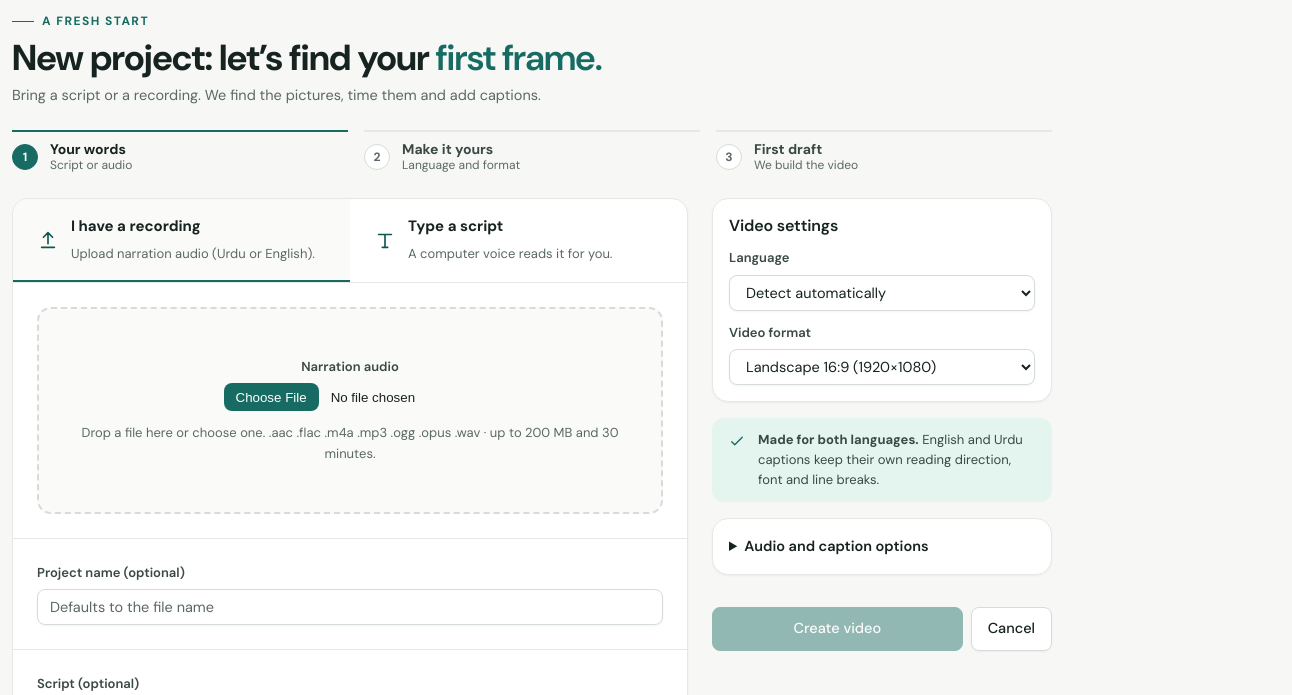
Scenario: NewProjectPage › a paid voice needs the user's confirmation first
Click the radio button with aria-label "Speak my script with a computer voice" at [456, 226], box 374,216 -> 612,262
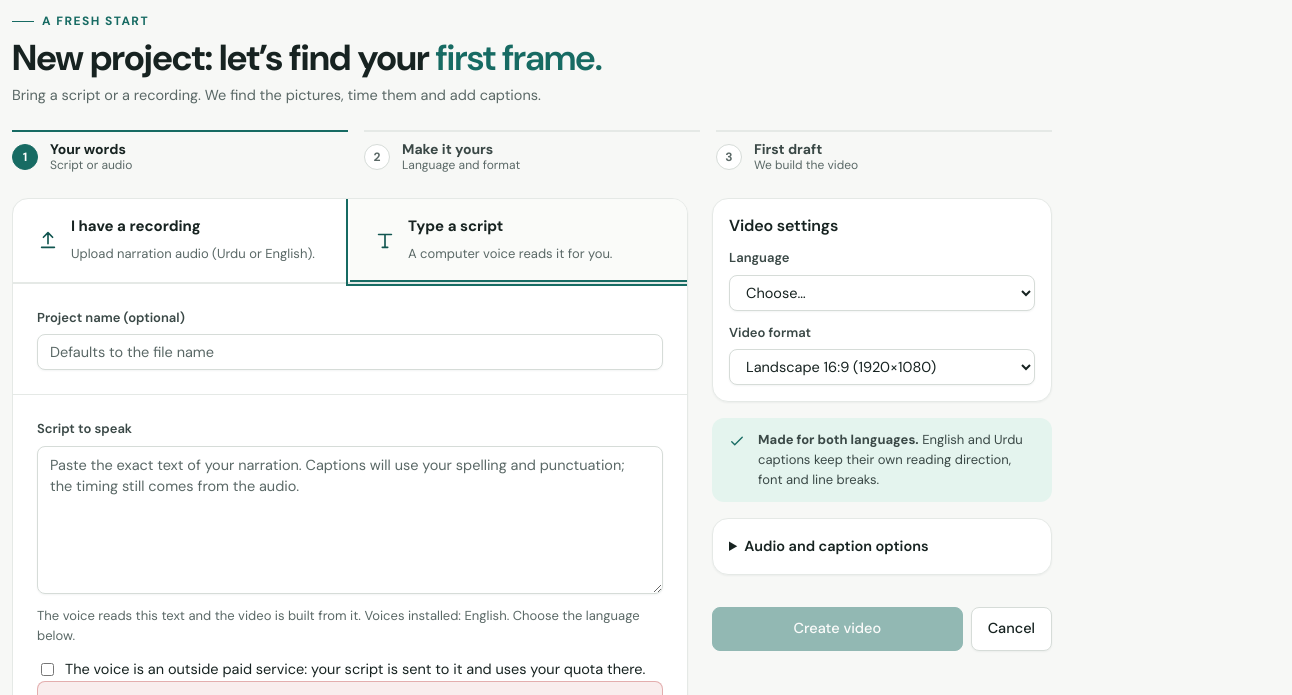
Type "Hello." into the text box labelled "Script to speak" at [350, 520], box 37,446 -> 663,594
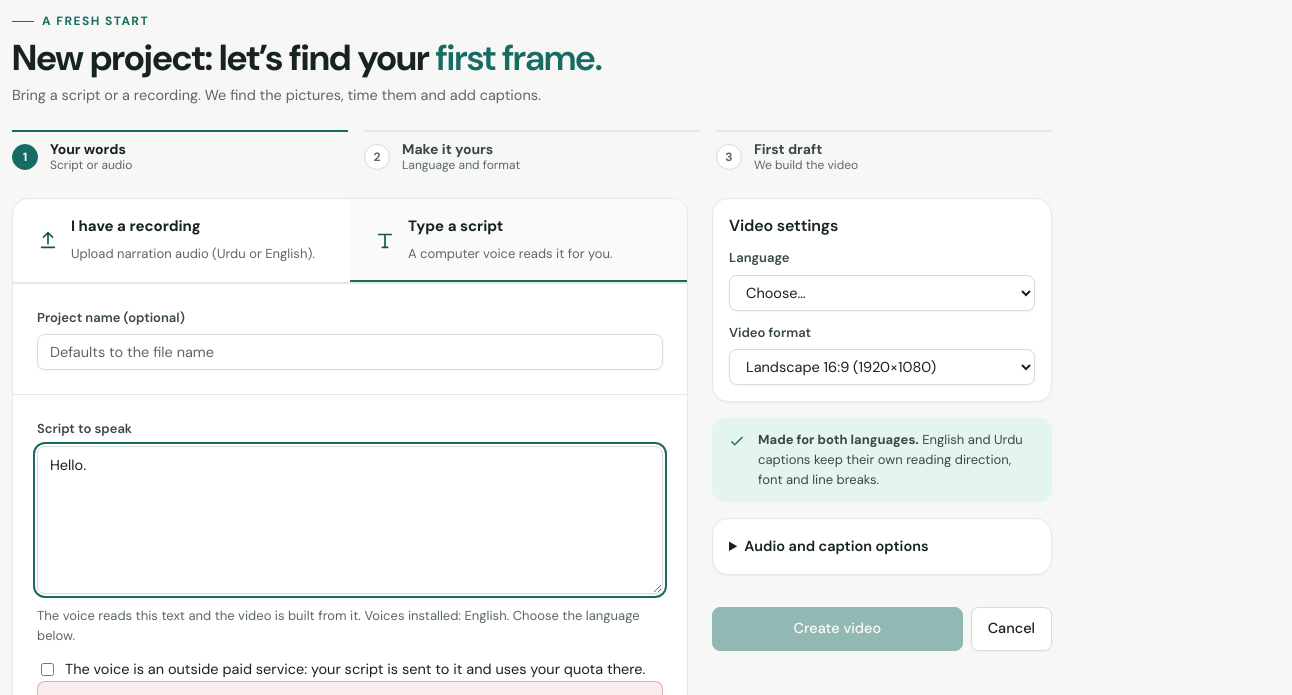
Select "English" in the dropdown labelled "Language" at [882, 293], box 729,275 -> 1035,311
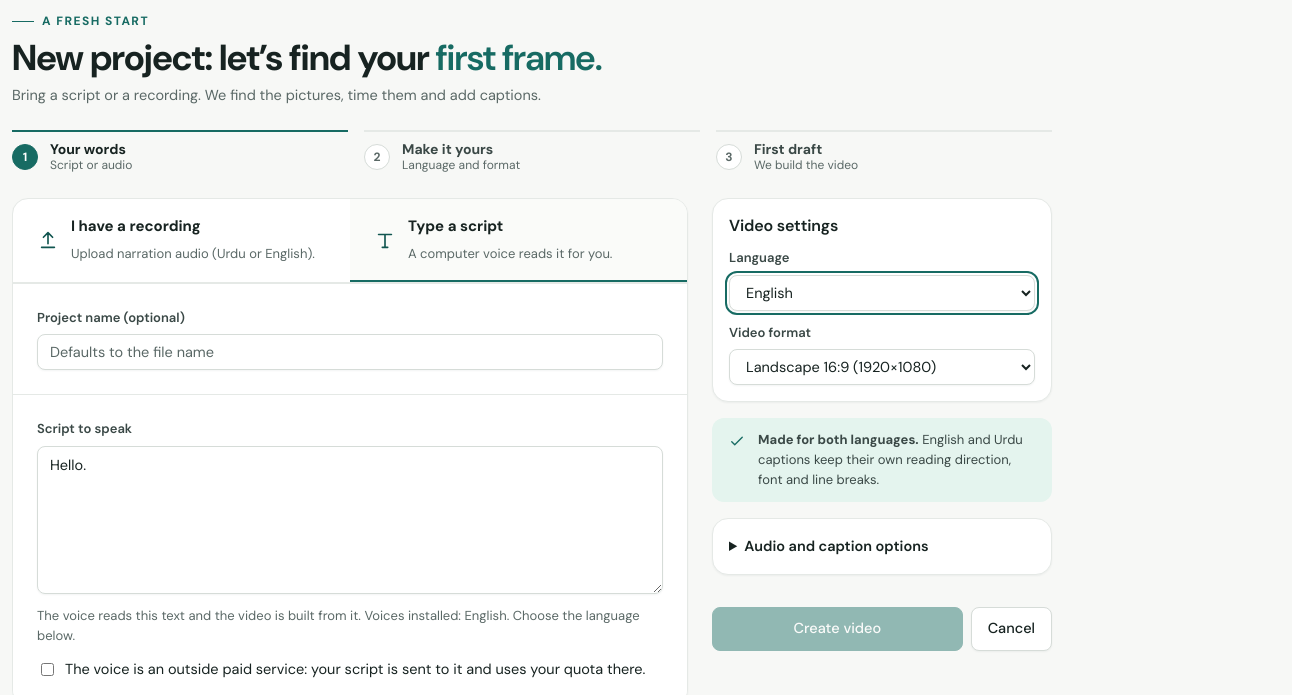
expect the button "Create video" is disabled: met, box 712,607 -> 963,651
Click the checkbox labelled "outside paid service" at [48, 670], box 41,663 -> 54,676
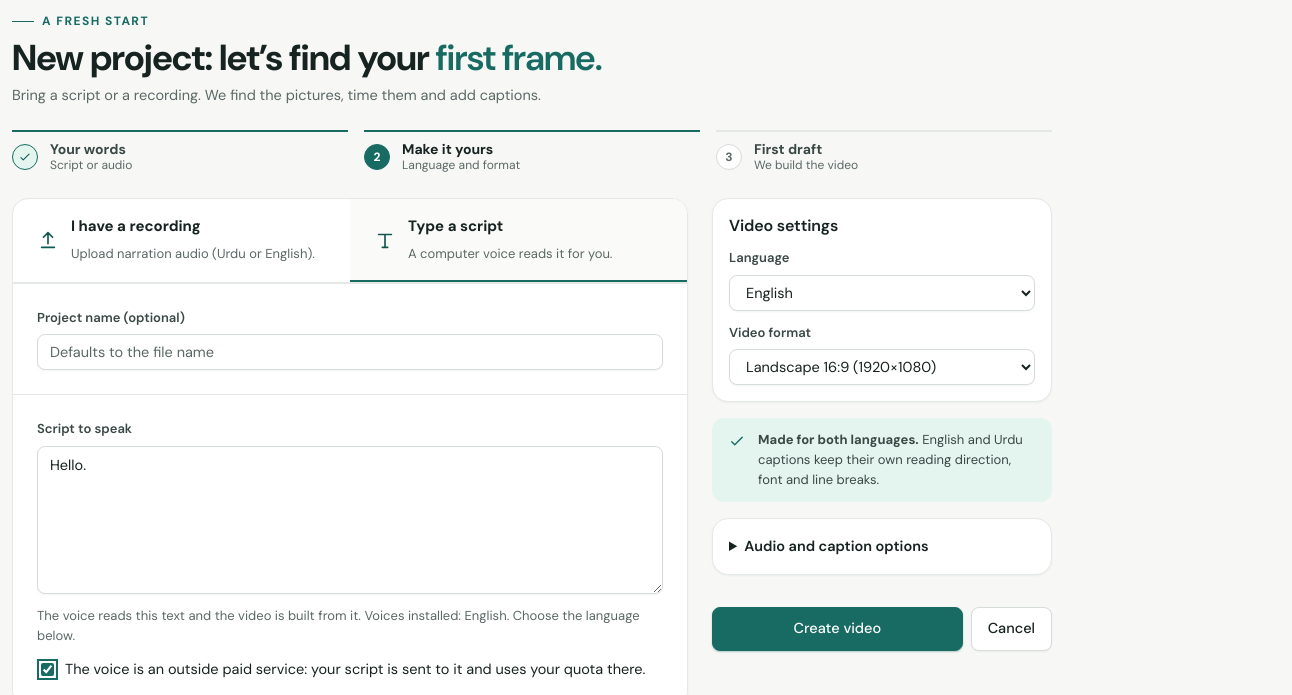
expect the button "Create video" is enabled: met, box 712,607 -> 963,651
